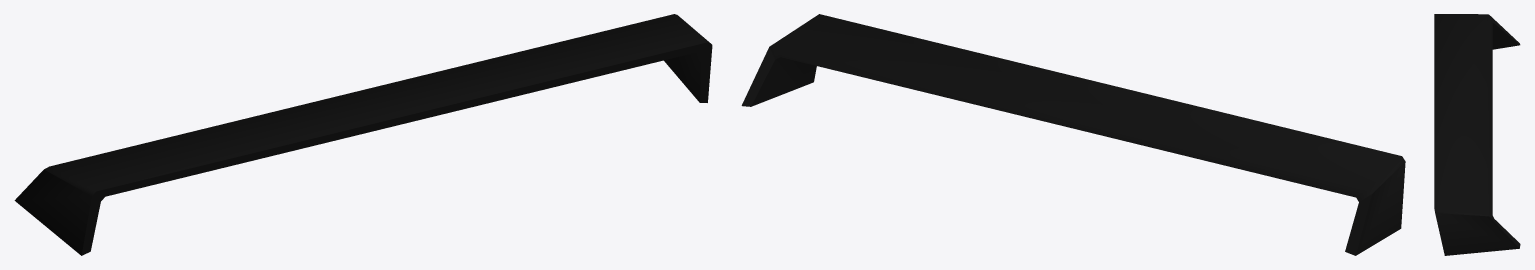
File: GTO_Spoiler03.fbx
3 views of the same model, side by side, from view 1: azimuth 30°, elevation 25°; view 2: azimuth 150°, elevation 25°; view 3: azimuth 270°, elevation 25° (orthographic). The views are drawn at different scales.
Parts seen in each view (by area): view 1: Empty_Mesh; view 2: Empty_Mesh; view 3: Empty_Mesh.
Boxes of the visible parts, bbox=[...] form: Empty_Mesh: bbox=[14, 14, 712, 255]; Empty_Mesh: bbox=[741, 14, 1405, 255]; Empty_Mesh: bbox=[1434, 14, 1520, 255].
Bounding box in the file's own units: 154 × 15.66 × 27.27.
